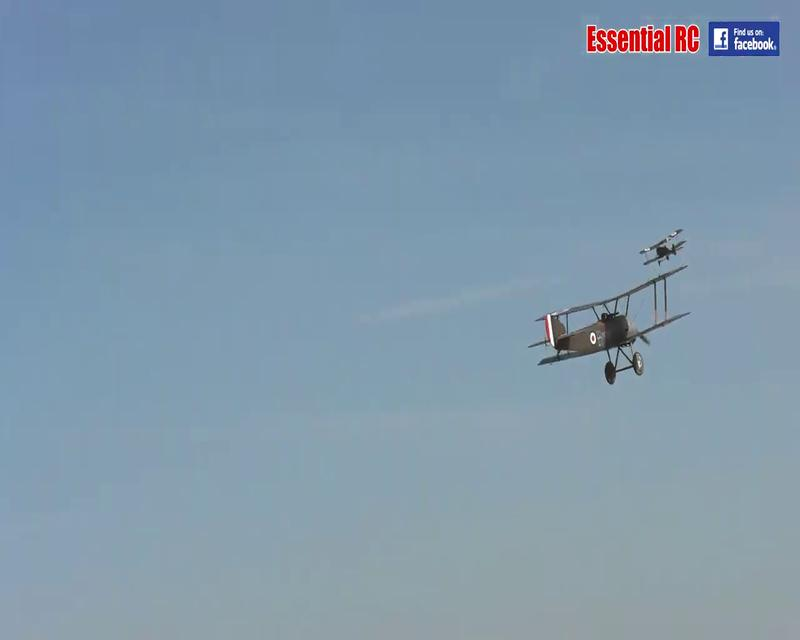UAV: (529, 266, 691, 384), (641, 228, 687, 266)
